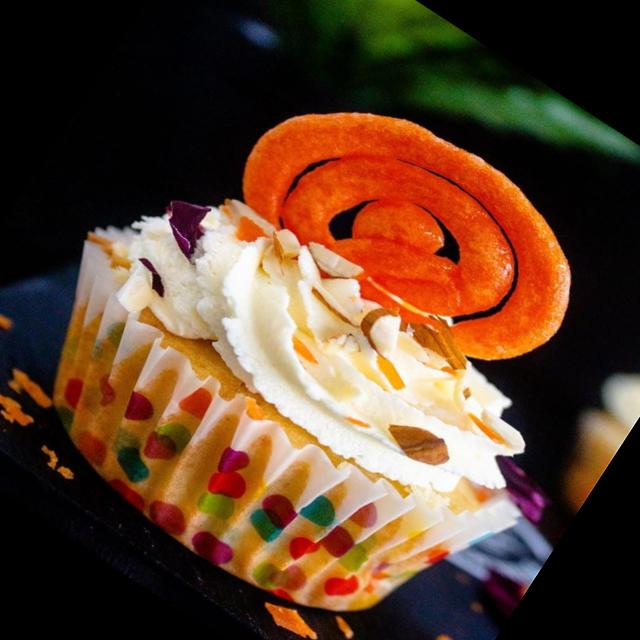jalebi: (207, 50, 630, 416)
